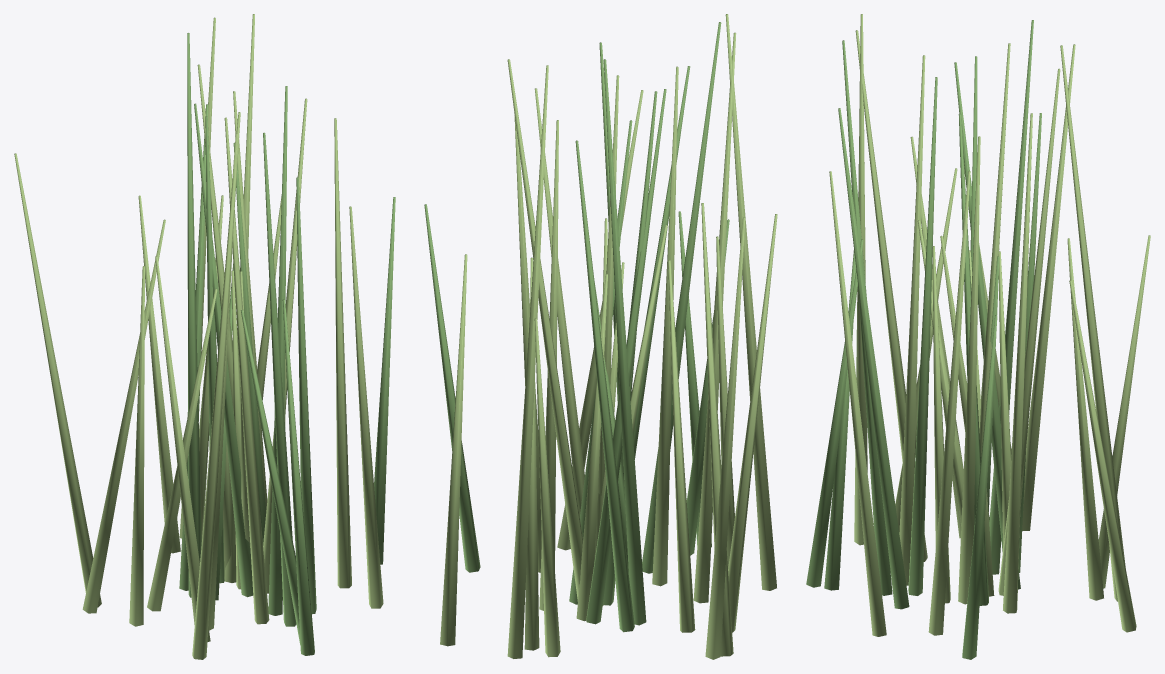
Rendered from grass.glb.
3 renders of one model, left to right at view 1: azimuth 30°, elevation 25°; view 2: azimuth 150°, elevation 25°; view 3: azimuth 270°, elevation 25°, orthographic. The views are drawn at different scales.
Parts seen in each view (by area): view 1: grass_blade_7, grass_blade_2, grass_blade_22, grass_blade_24, grass_blade_32, grass_blade_8, grass_blade_3, grass_blade_17, grass_blade_33, grass_blade_6, grass_blade_4, grass_blade_27 (+21 smaller); view 2: grass_blade_26, grass_blade_24, grass_blade_7, grass_blade_18, grass_blade_2, grass_blade_13, grass_blade_32, grass_blade_28, grass_blade_12, grass_blade_11, grass_blade_4, grass_blade_16 (+21 smaller); view 3: grass_blade_9, grass_blade_6, grass_blade_5, grass_blade_2, grass_blade_22, grass_blade_8, grass_blade_20, grass_blade_32, grass_blade_26, grass_blade_3, grass_blade_24, grass_blade_11 (+21 smaller).
Part boxes in pixels (<box>): grass_blade_7: <box>192,112,240,659</box>; grass_blade_2: <box>224,117,269,624</box>; grass_blade_22: <box>334,118,351,588</box>; grass_blade_24: <box>187,33,201,597</box>; grass_blade_32: <box>14,153,101,607</box>; grass_blade_8: <box>349,206,383,608</box>; grass_blade_3: <box>263,132,296,626</box>; grass_blade_17: <box>82,219,165,613</box>; grass_blade_33: <box>194,103,253,597</box>; grass_blade_6: <box>296,177,316,614</box>; grass_blade_4: <box>129,266,144,626</box>; grass_blade_27: <box>282,299,314,655</box>; grass_blade_26: <box>507,65,548,658</box>; grass_blade_24: <box>603,59,646,625</box>; grass_blade_7: <box>725,14,776,590</box>; grass_blade_18: <box>575,140,634,632</box>; grass_blade_2: <box>652,66,678,586</box>; grass_blade_13: <box>507,59,583,601</box>; grass_blade_32: <box>705,217,745,659</box>; grass_blade_28: <box>693,32,736,603</box>; grass_blade_12: <box>586,89,666,624</box>; grass_blade_11: <box>440,254,467,646</box>; grass_blade_4: <box>728,214,777,632</box>; grass_blade_16: <box>668,260,695,632</box>; grass_blade_9: <box>908,77,937,595</box>; grass_blade_6: <box>838,108,909,609</box>; grass_blade_5: <box>1003,113,1032,613</box>; grass_blade_2: <box>899,55,925,585</box>; grass_blade_22: <box>928,171,970,635</box>; grass_blade_8: <box>829,171,886,636</box>; grass_blade_20: <box>958,136,980,604</box>; grass_blade_32: <box>1022,44,1075,530</box>; grass_blade_26: <box>1060,45,1125,601</box>; grass_blade_3: <box>842,40,892,595</box>; grass_blade_24: <box>989,20,1033,574</box>; grass_blade_11: <box>1069,280,1136,632</box>.
Bounding box in the file's own units: 0.3122 × 0.4754 × 0.2657.
